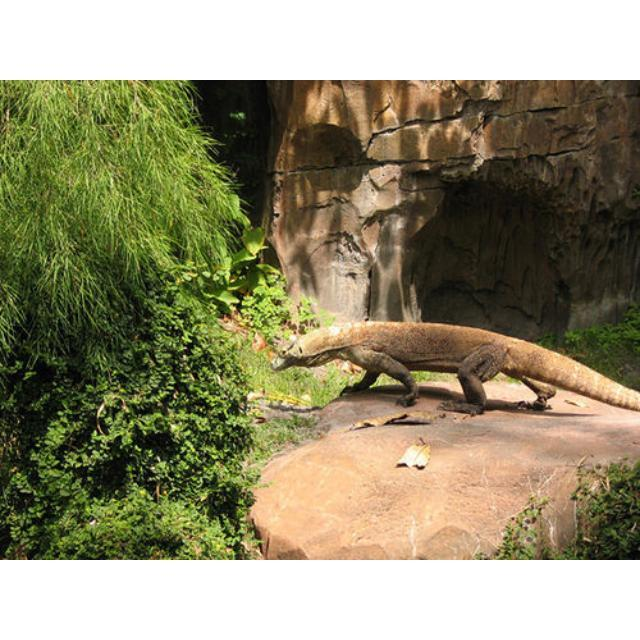KomodoDragon: (265, 317, 637, 423)
